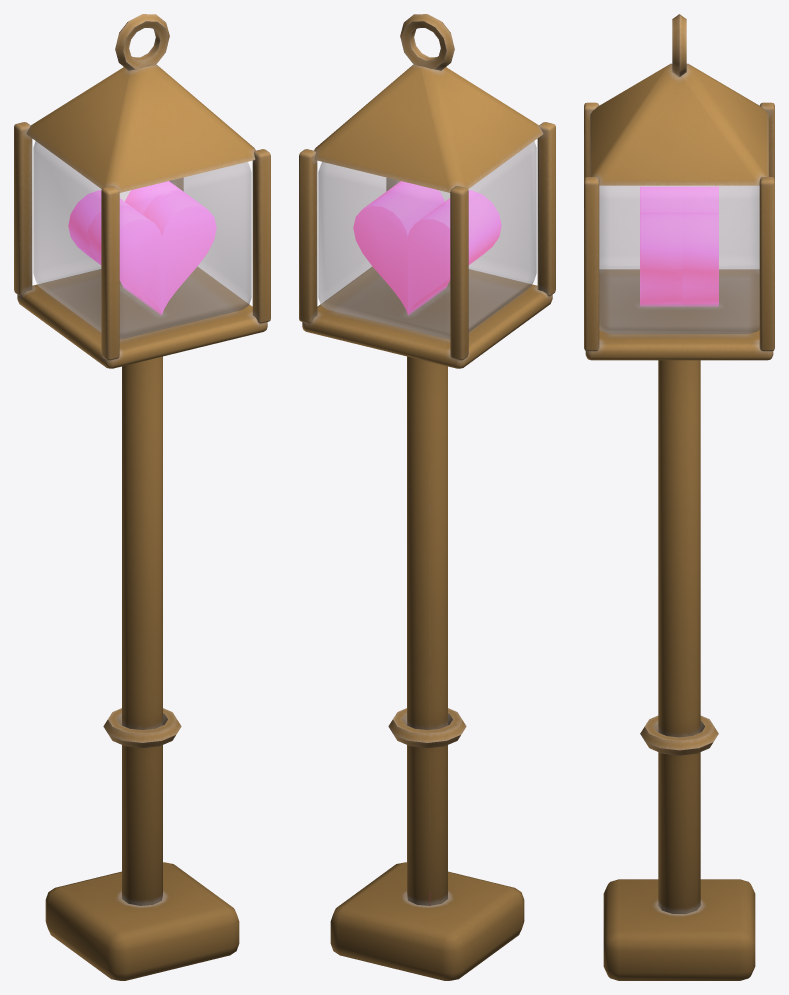
File: tf_heart_lantern.glb
3 renders of one model, left to right at view 1: azimuth 30°, elevation 25°; view 2: azimuth 150°, elevation 25°; view 3: azimuth 270°, elevation 25°, orthographic.
Visible parts, largest first — view 1: tf_heart_lantern; view 2: tf_heart_lantern; view 3: tf_heart_lantern.
Boxes of the visible parts, x1=… form: tf_heart_lantern: x1=14, y1=14, x2=270, y2=980; tf_heart_lantern: x1=299, y1=14, x2=555, y2=980; tf_heart_lantern: x1=584, y1=14, x2=774, y2=980.
Bounding box in the file's own units: 0.63 × 3.41 × 0.63.
3 materials, 3 textured.
